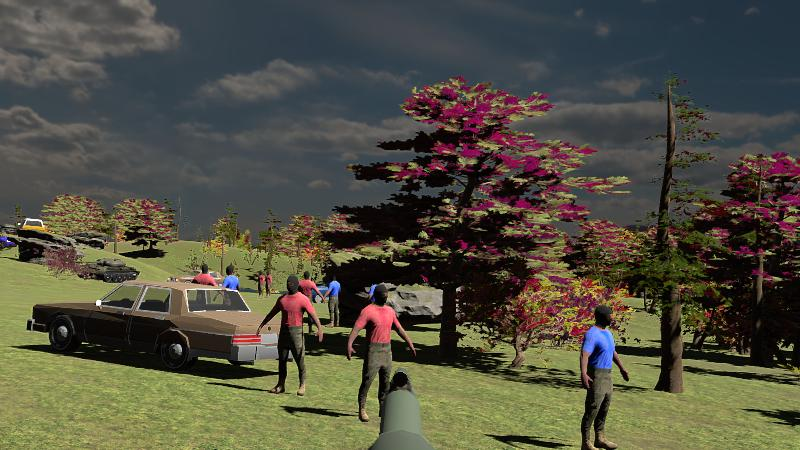Human: (347, 284, 416, 424), (258, 274, 322, 397), (580, 304, 630, 449), (325, 270, 342, 328)
Tank: (80, 256, 142, 283)
car: (23, 279, 270, 370), (0, 228, 19, 253)
